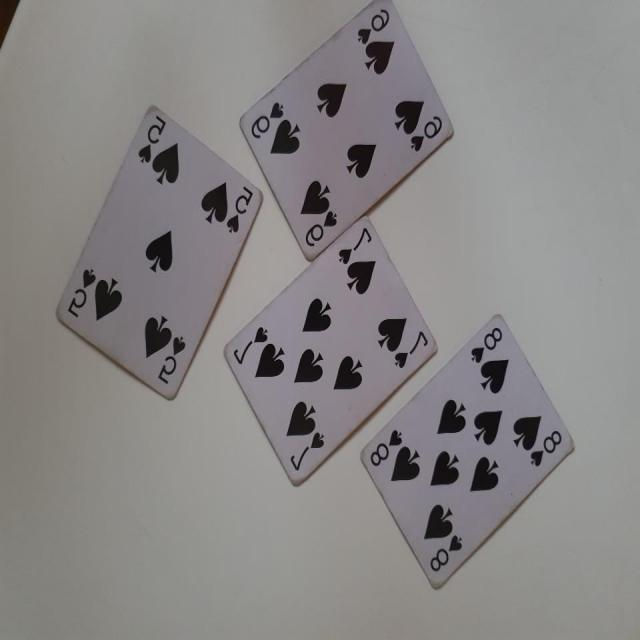5 of spades: (44, 91, 264, 405)
6 of spades: (235, 0, 454, 266)
7 of spades: (210, 207, 435, 501)
8 of spades: (354, 298, 582, 592)
